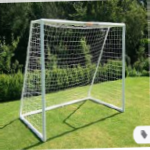goals: (17, 16, 129, 144)
